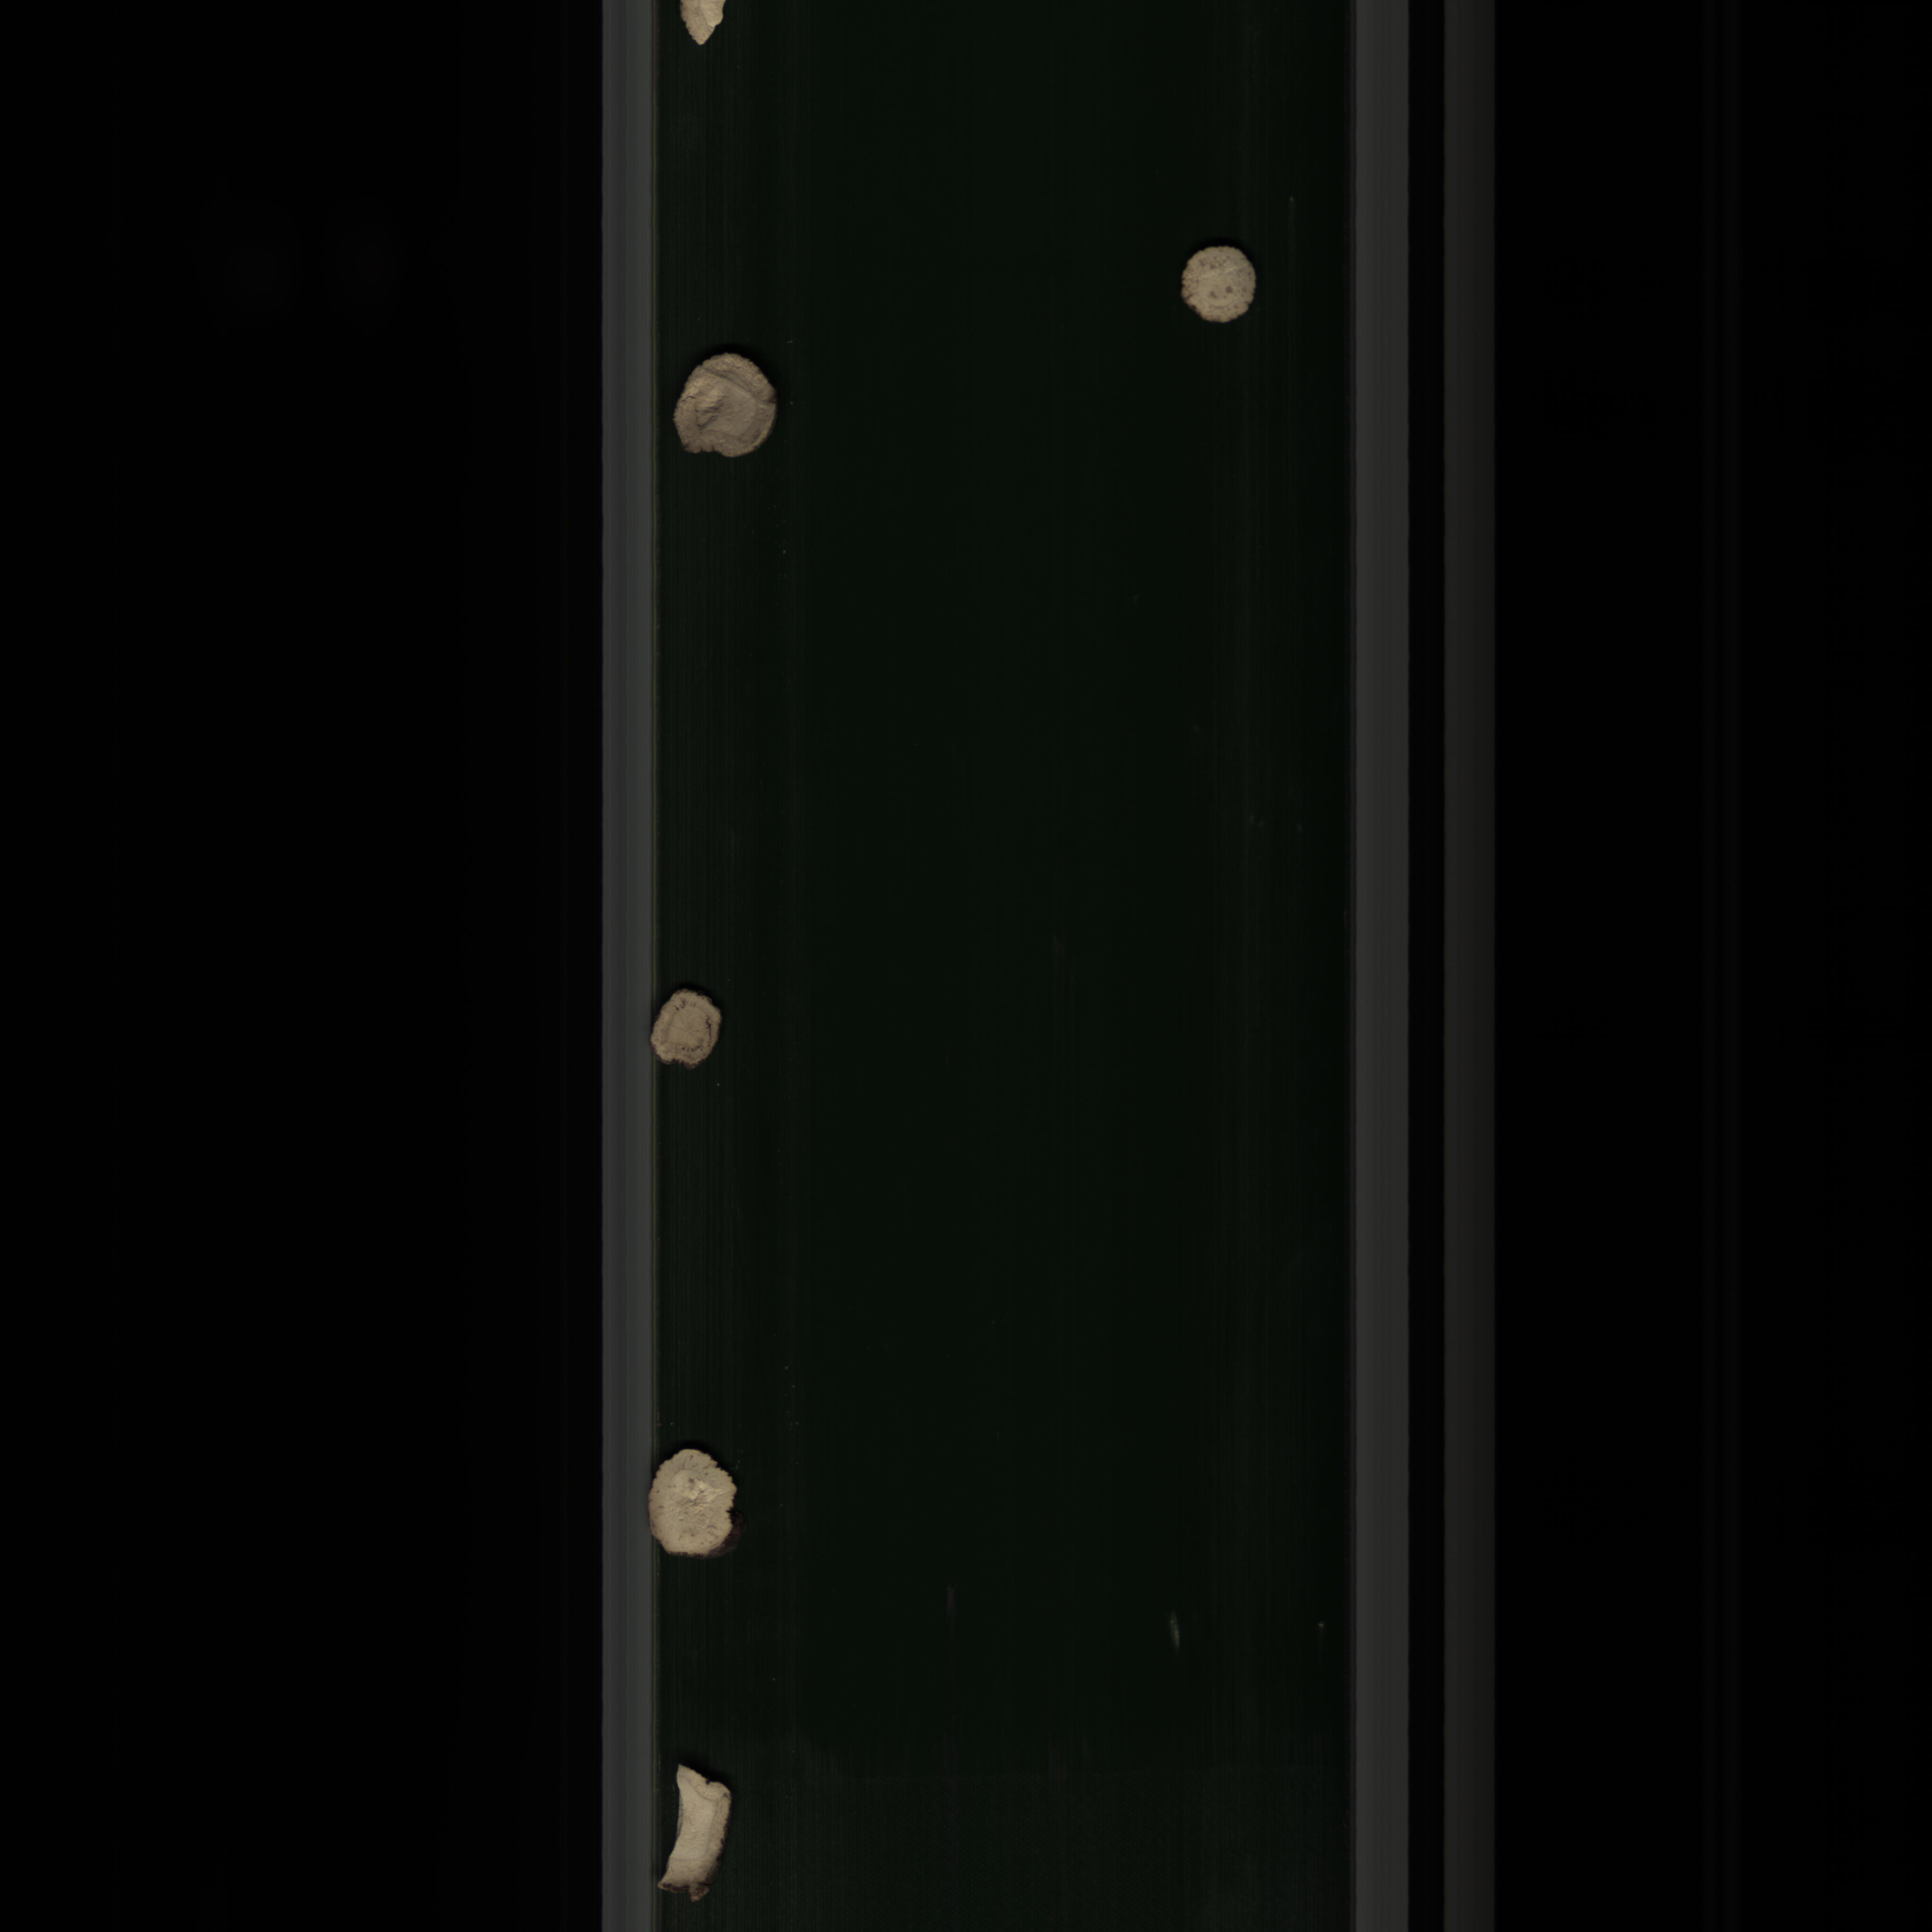debris: (660, 1750, 736, 1913)
